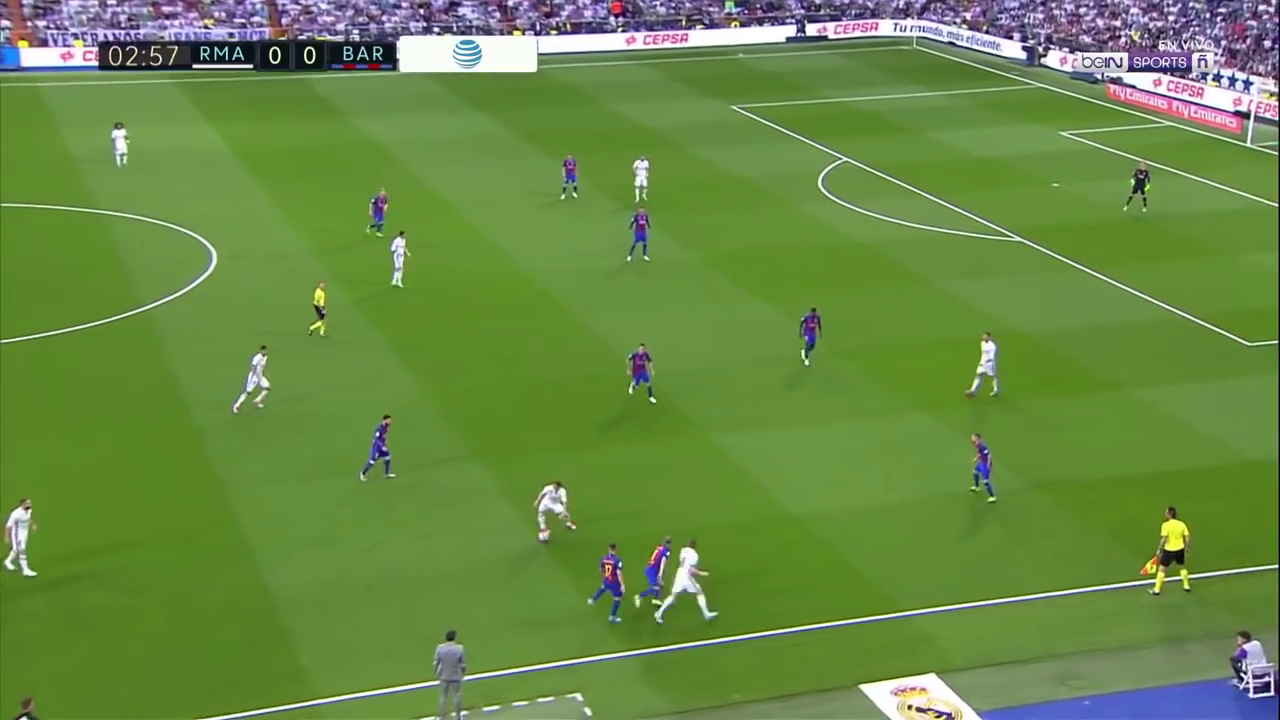ball: (538, 531, 551, 545)
manager: (435, 628, 468, 720)
player: (652, 536, 721, 628), (585, 541, 624, 625), (4, 495, 42, 581), (633, 533, 675, 608), (231, 344, 275, 415), (356, 411, 398, 483), (531, 476, 577, 535), (962, 331, 1000, 400), (625, 341, 660, 406), (968, 430, 997, 504), (388, 230, 415, 290), (797, 307, 824, 367), (1121, 160, 1150, 213), (625, 207, 651, 265), (305, 281, 331, 339), (108, 120, 134, 170), (366, 185, 390, 238), (631, 154, 653, 205), (560, 151, 579, 202)
